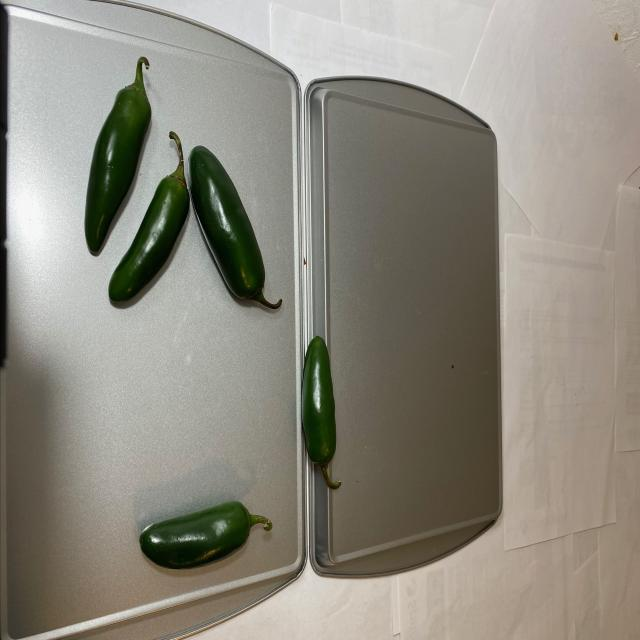chilli: (83, 60, 278, 324), (131, 497, 270, 574), (292, 329, 341, 499)
